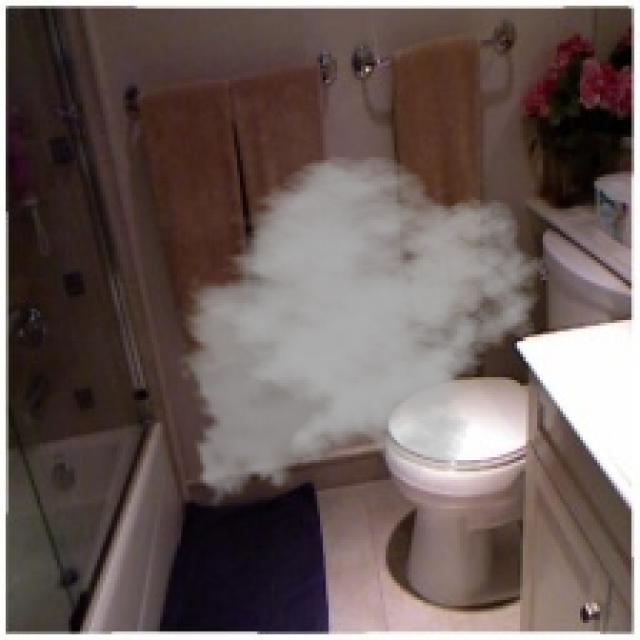smoke: (174, 154, 552, 512)
